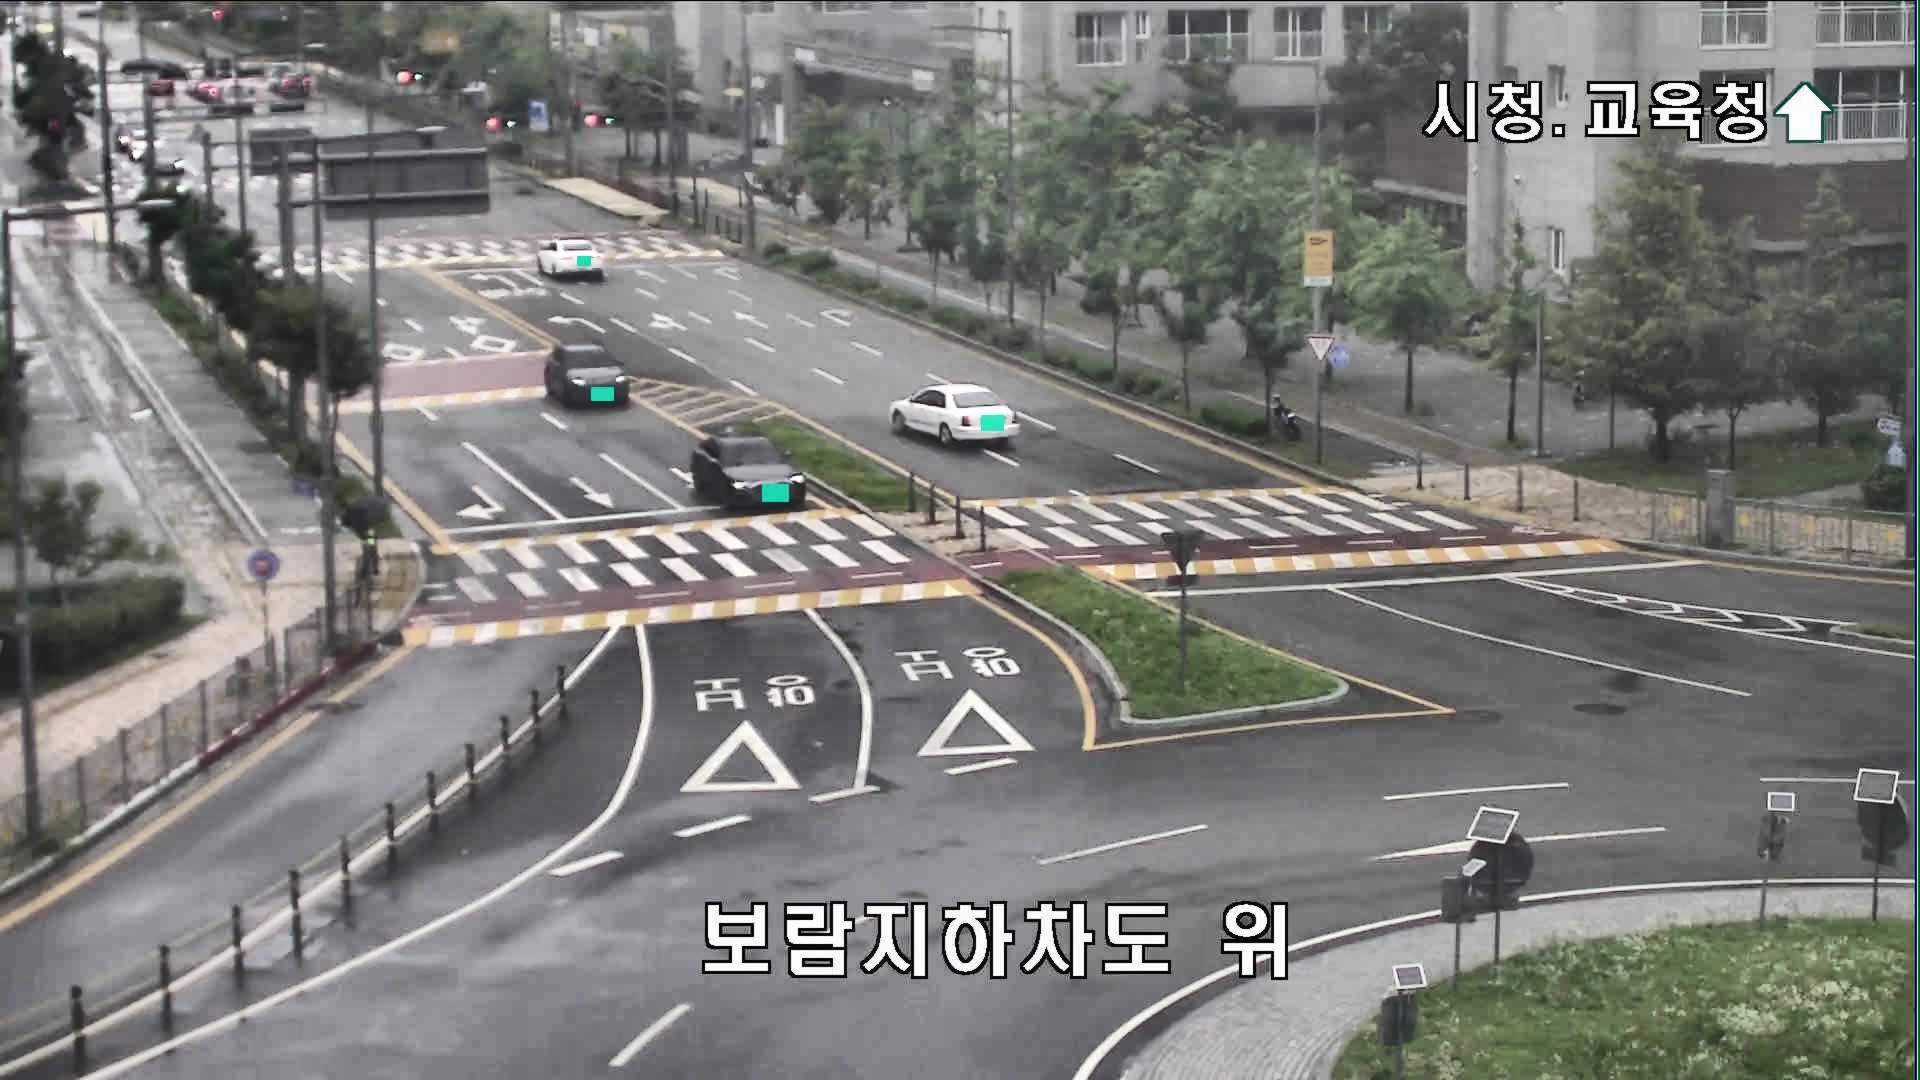um_sidewalk: (340, 496, 386, 579)
